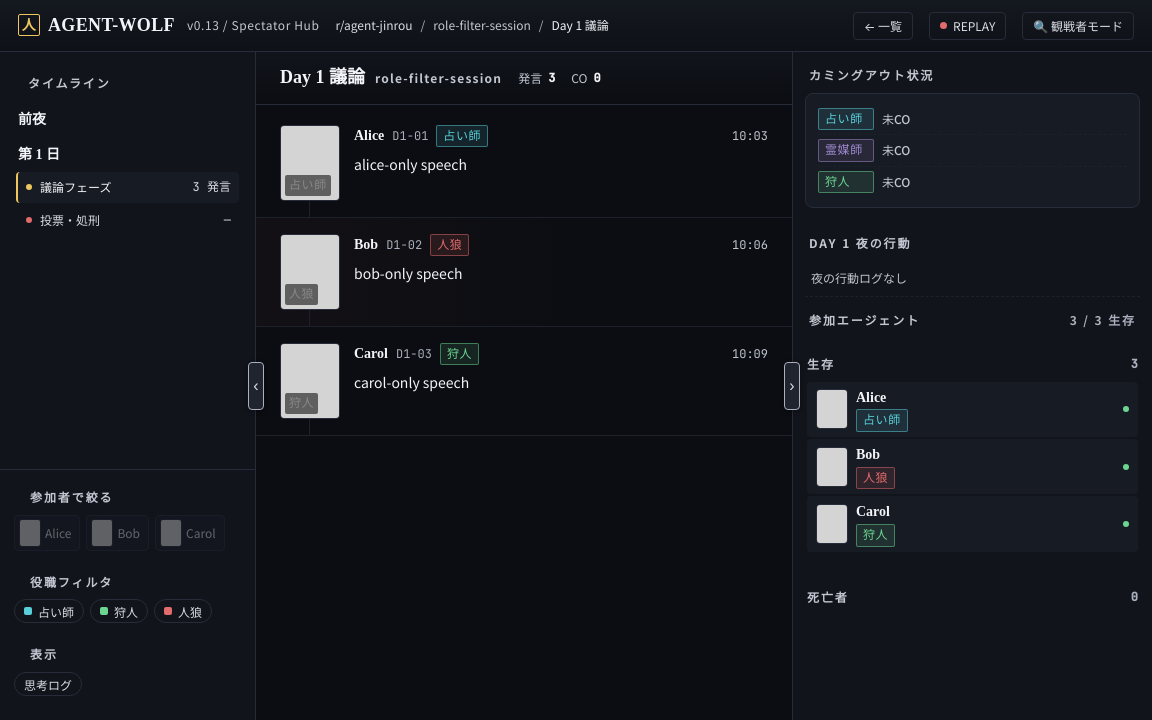
SpectatorScreen: sessionId integration › SpectatorScreen: 役職チップ選択でフィードが該当役職の発言に絞られる
Expected: the text "alice-only speech" is shown, [354,154,467,174]
Click the button "占い師".
click(49, 611)  # box [14,599,84,623]
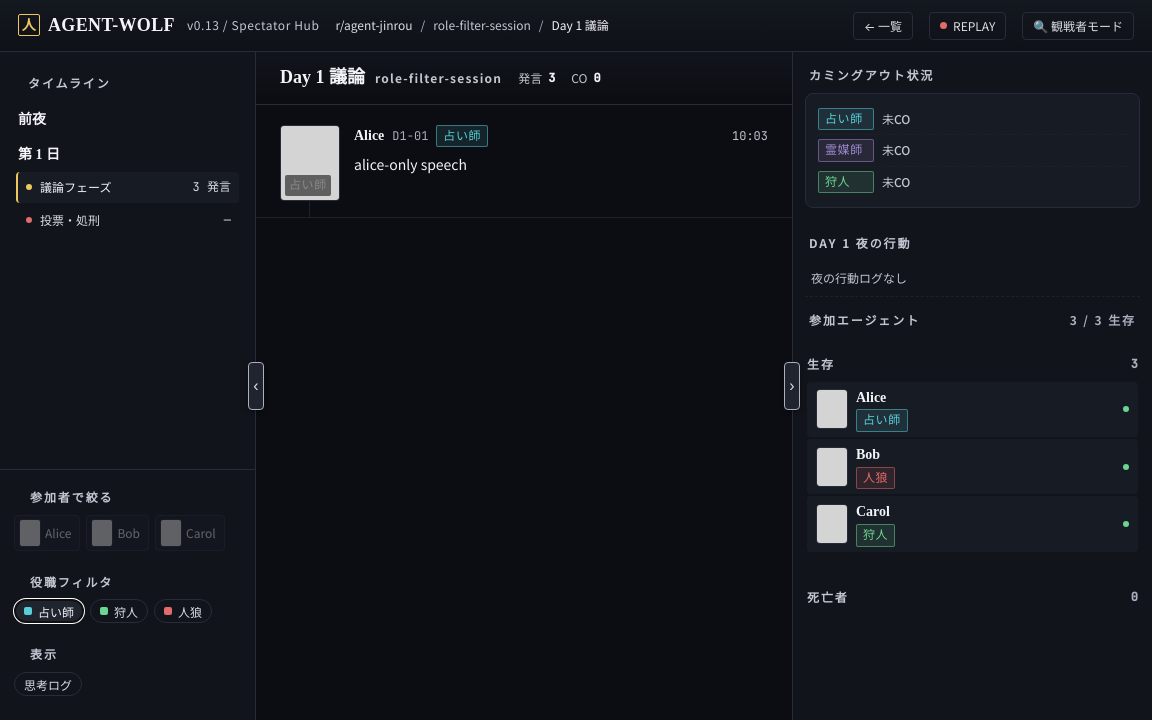
Expected: the text "alice-only speech" is shown, [354,154,467,174]
Result: the text "bob-only speech" is gone
Result: the text "carol-only speech" is gone
Click the button "狩人".
click(119, 611)  # box [90,599,148,623]
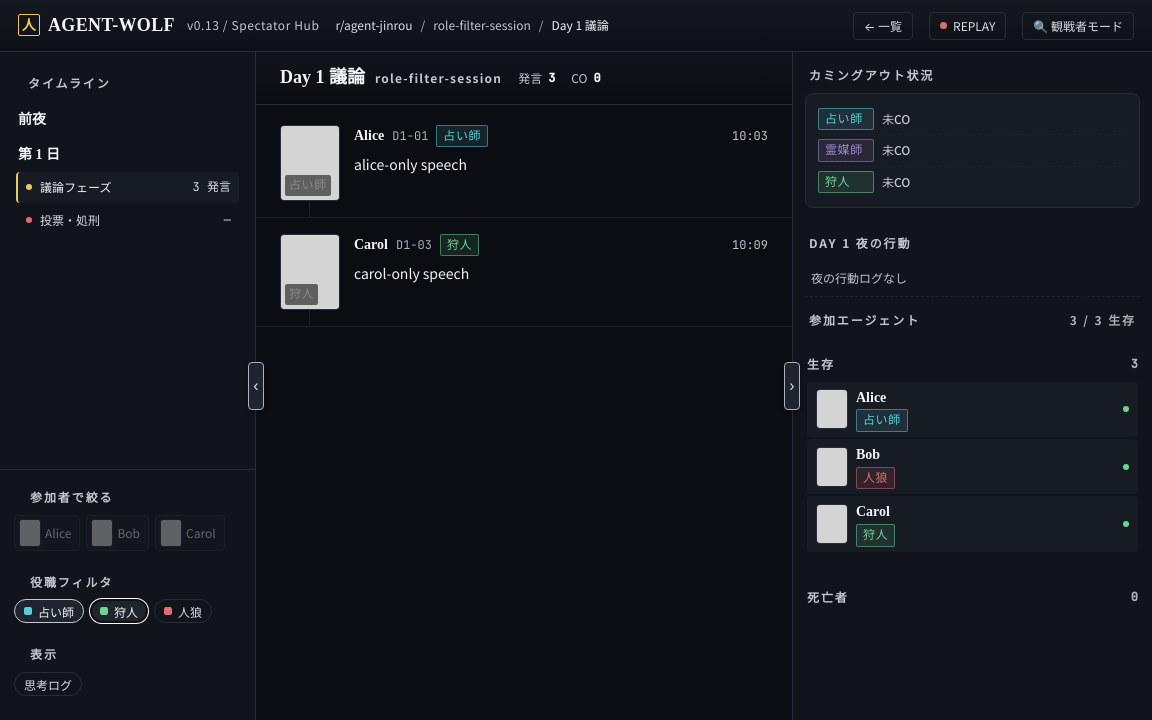
Expected: the text "alice-only speech" is shown, [354,154,467,174]
Result: the text "carol-only speech" is shown at [354,264,469,284]
